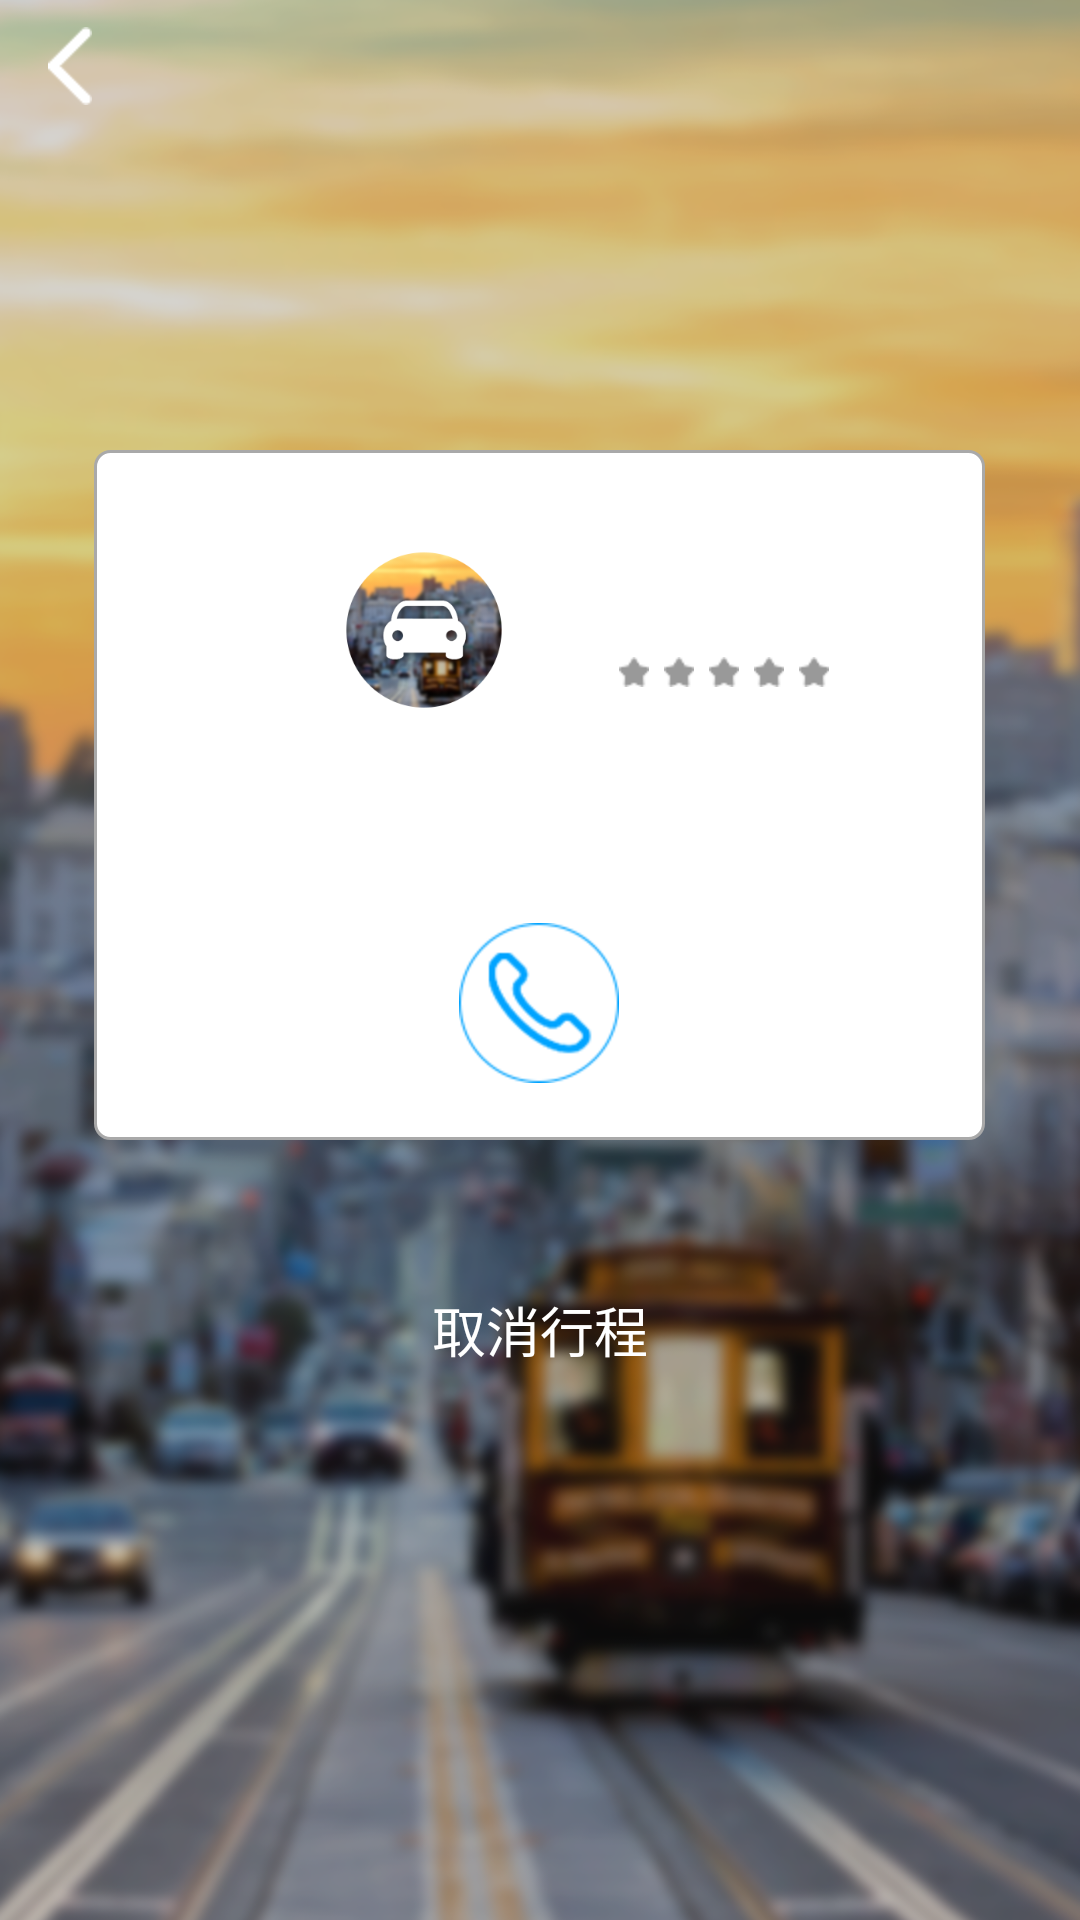

Icons on this 1080px×1920px Android screen, each with its box as (x1, y1, x2, y2):
back: (48, 27, 92, 105)
